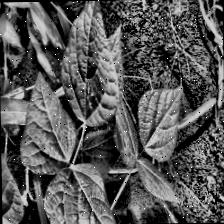ALS: (19, 79, 77, 169)
